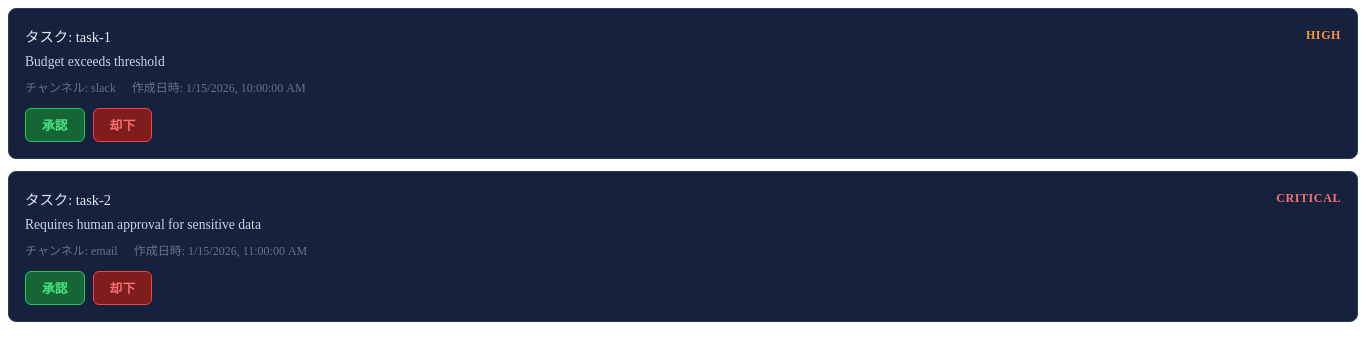
it: ApprovalQueue › removes escalation after approve action
Expected: the text "Budget exceeds threshold" is shown, [25,54,165,69]
Click the button "承認" below "slack".
click(55, 125)  # box [25,108,85,142]
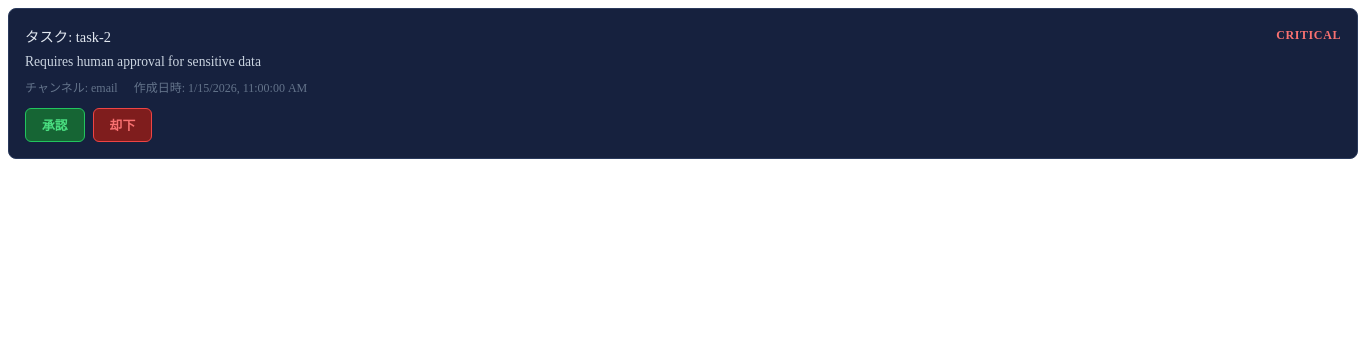
Expected: the text "Requires human approval for sensitive data" is shown, [25,54,261,69]
Expected: the text "Budget exceeds threshold" is gone
